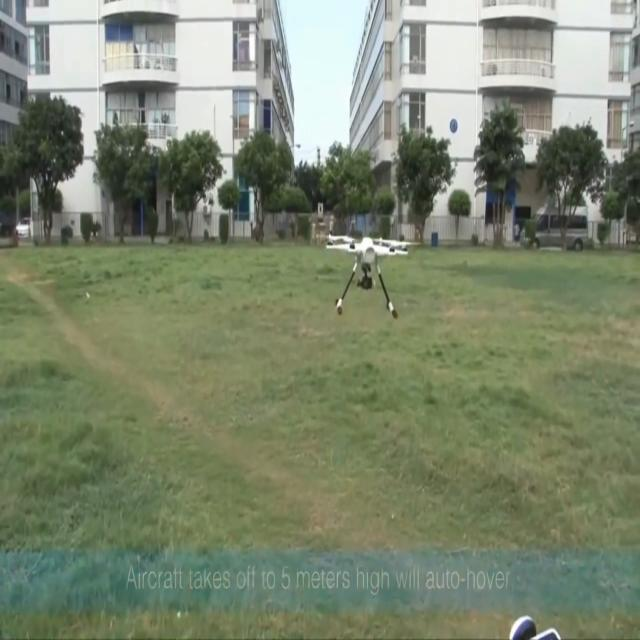drone: (325, 231, 411, 320)
